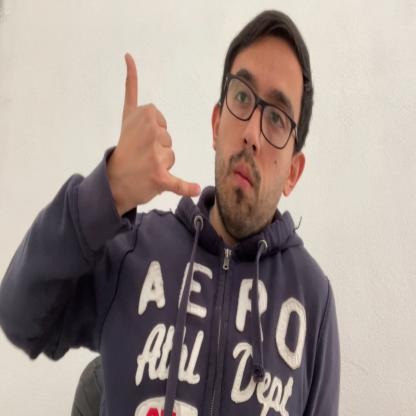Y: (119, 53, 201, 210)
